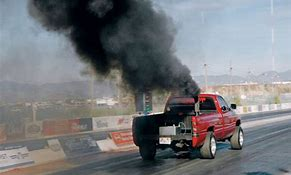smoke: (31, 1, 201, 98)
